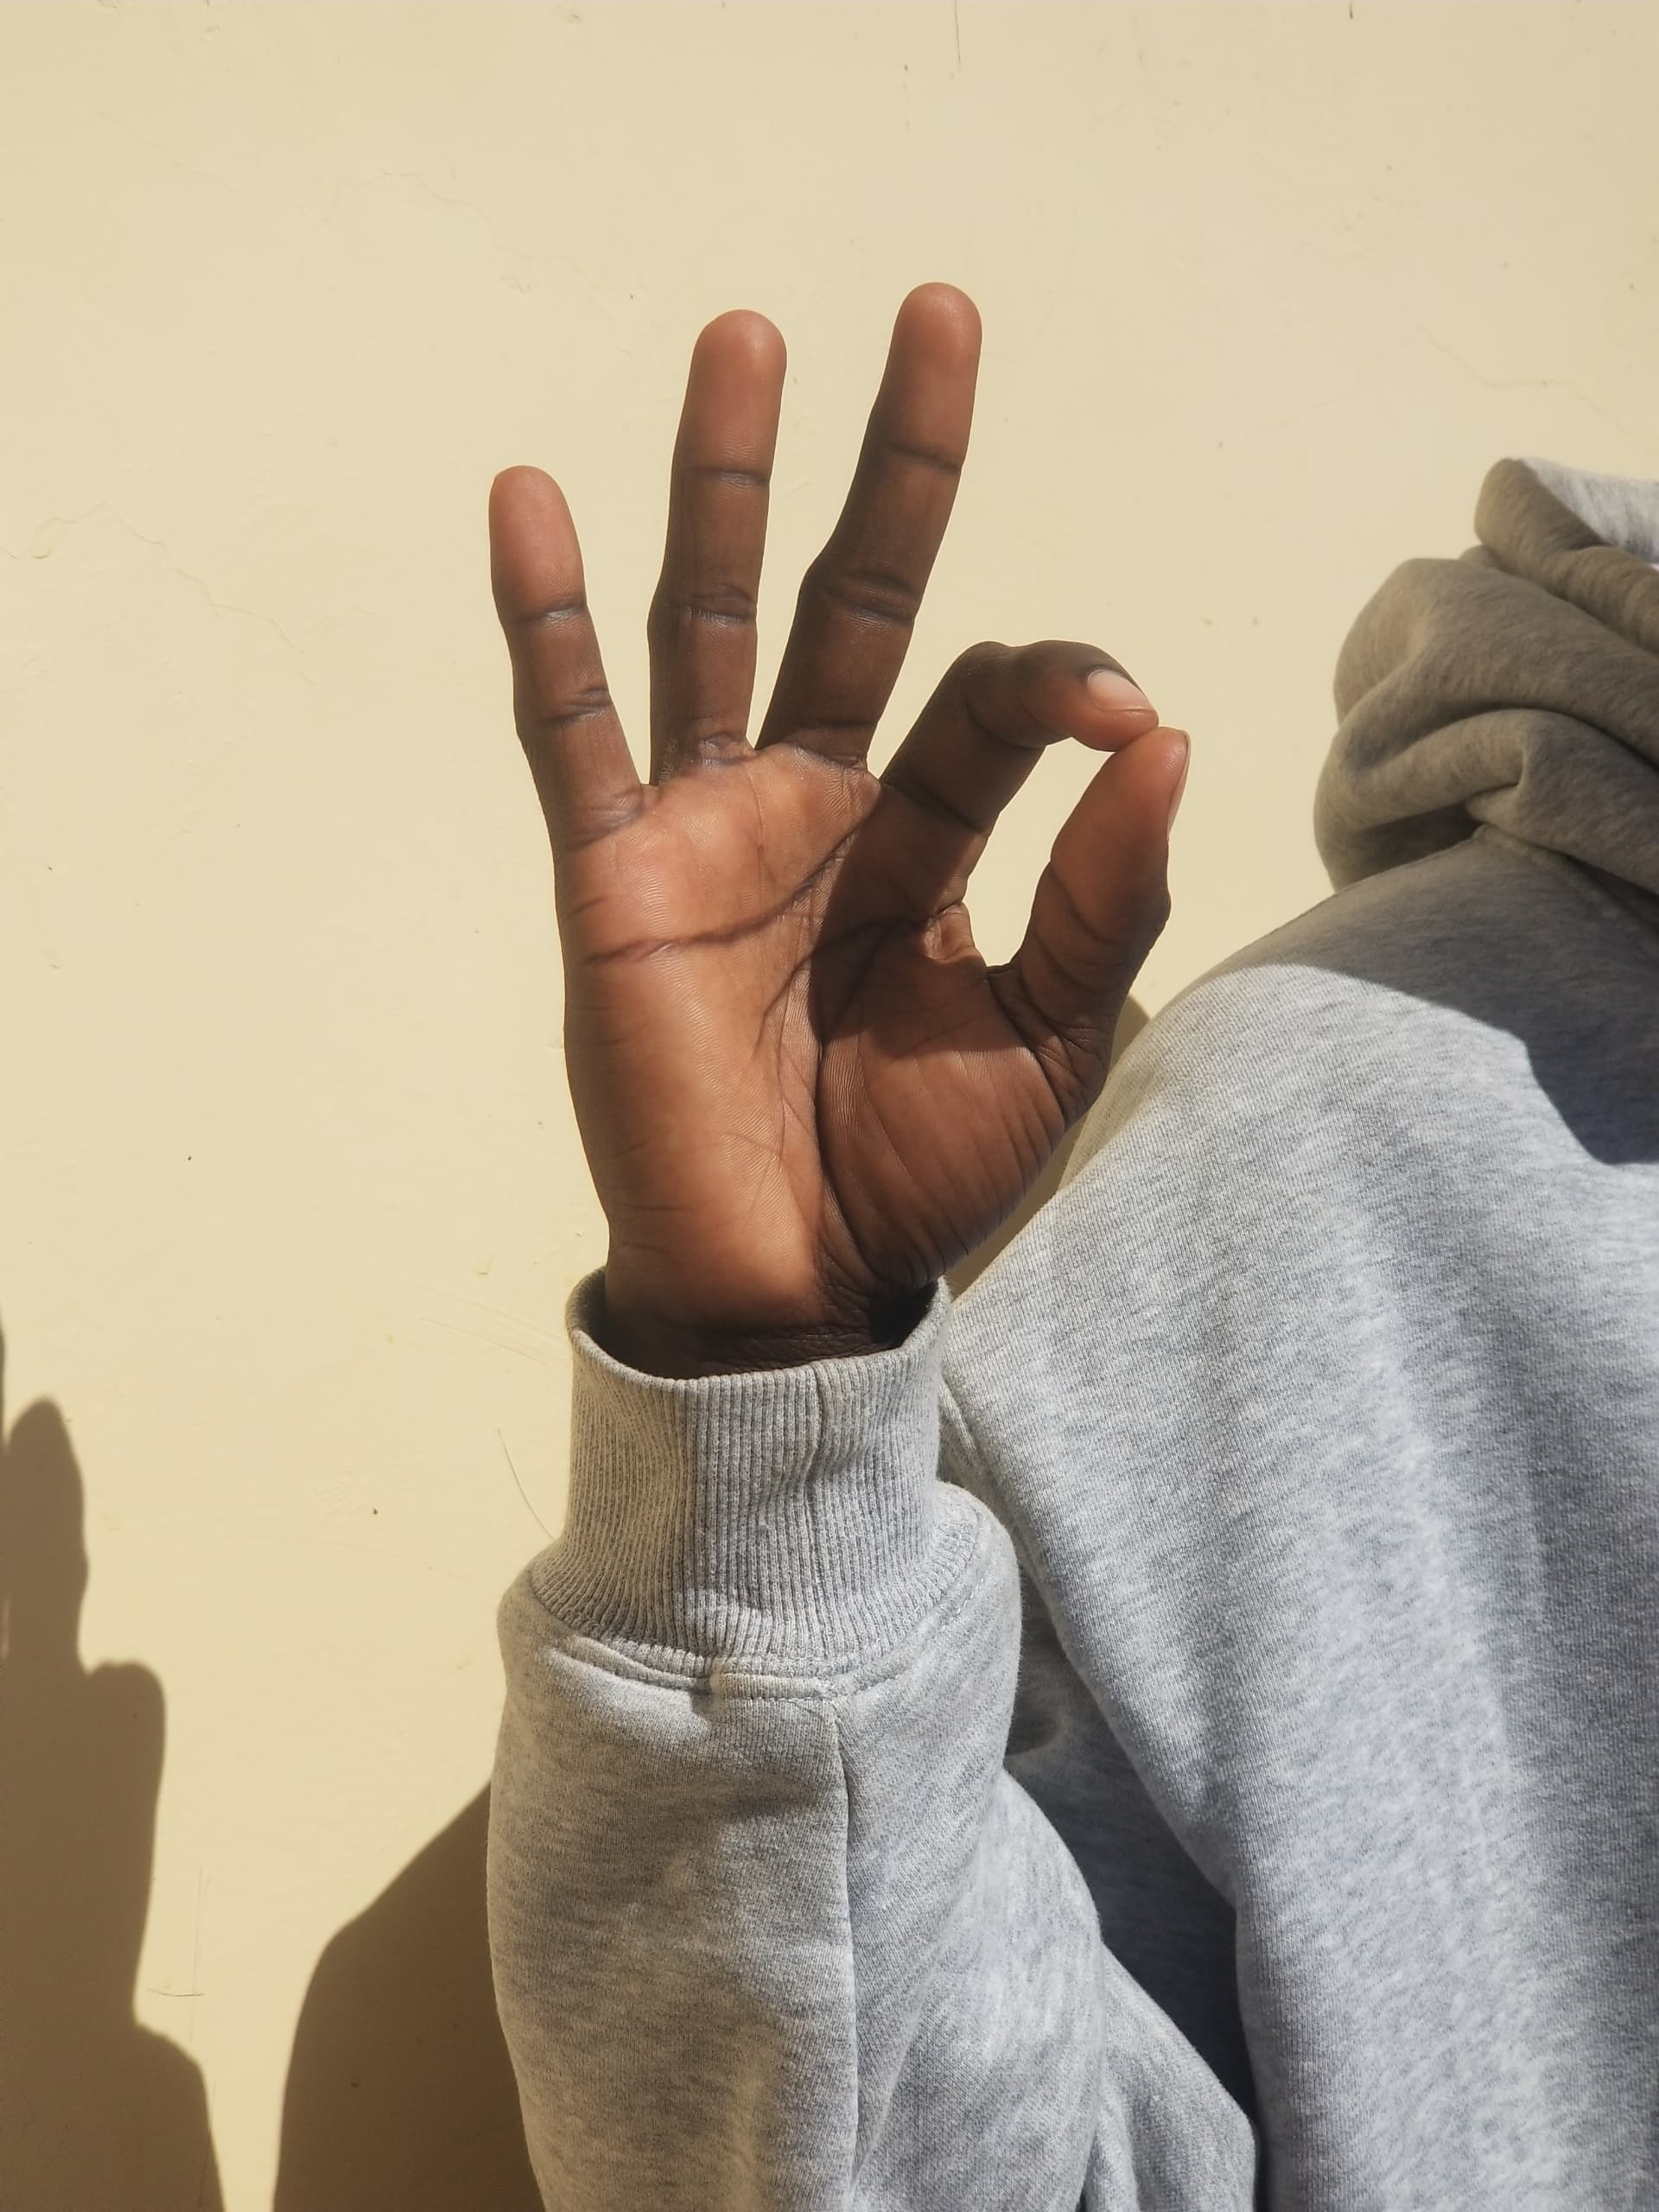okay: (378, 251, 1208, 1381)
